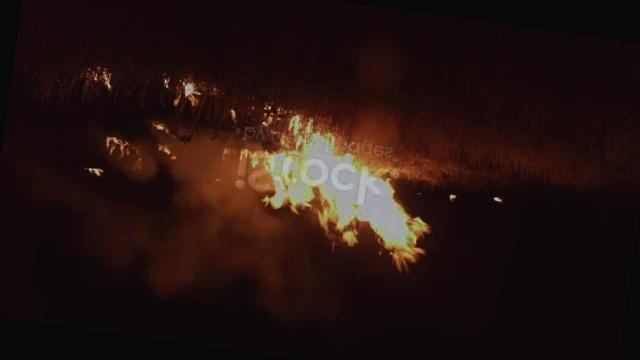fire: (41, 61, 448, 282)
